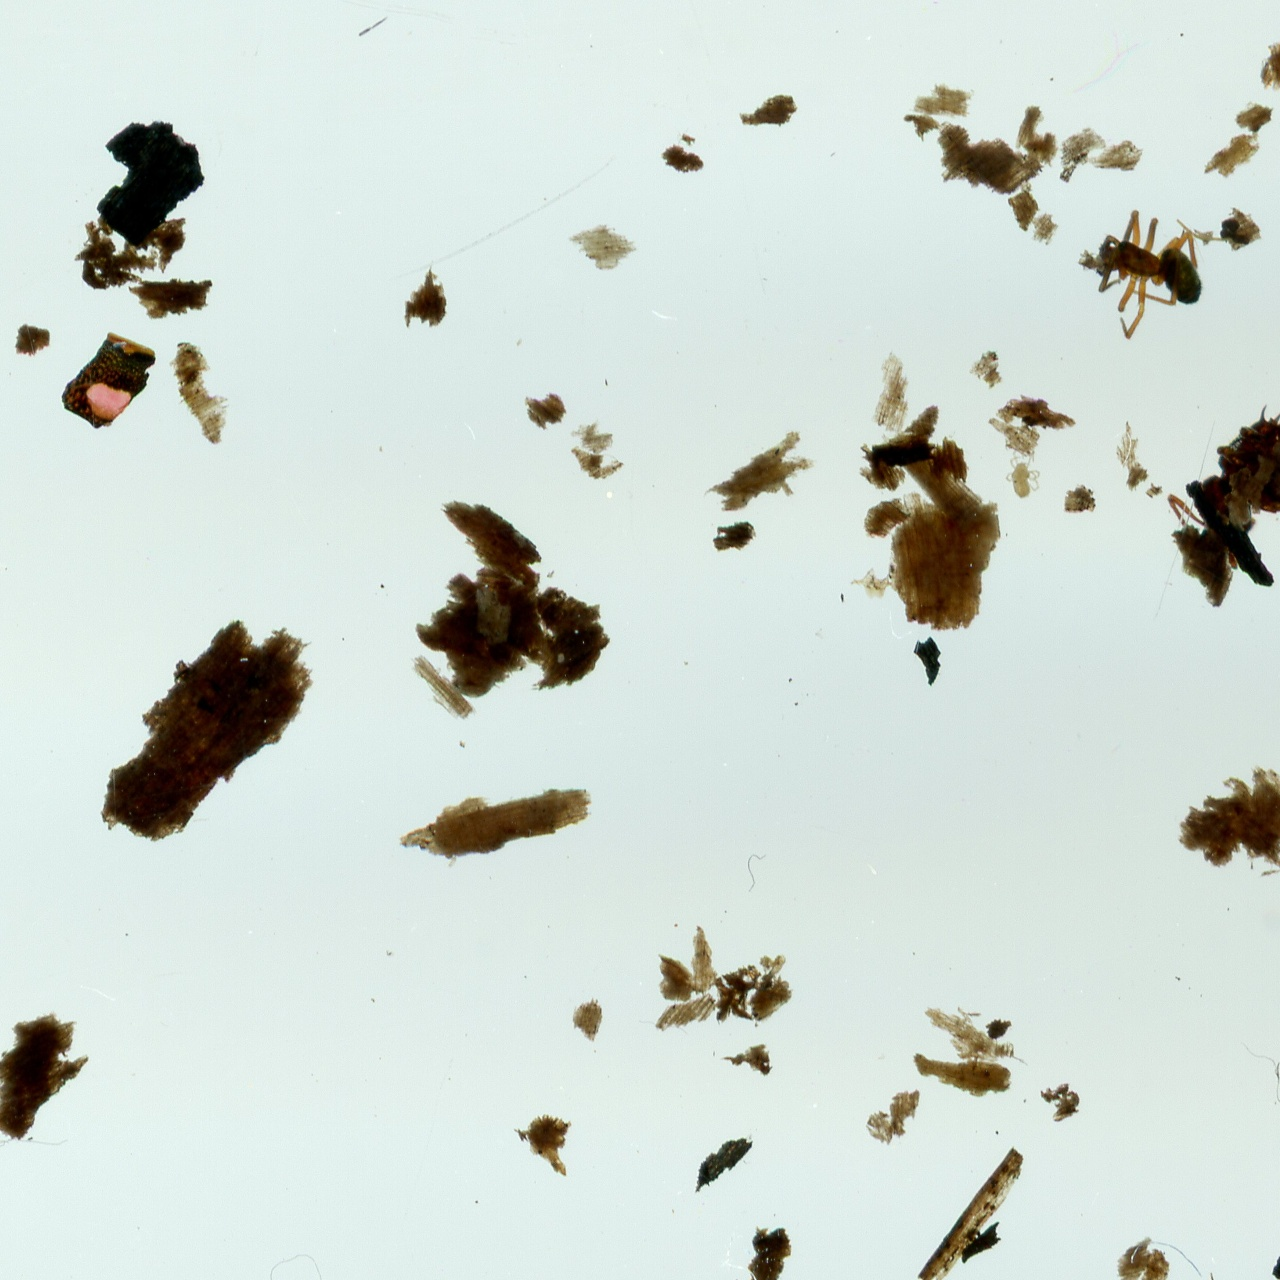arthropod: (1095, 205, 1211, 342), (1208, 399, 1280, 525), (1005, 448, 1041, 501)
